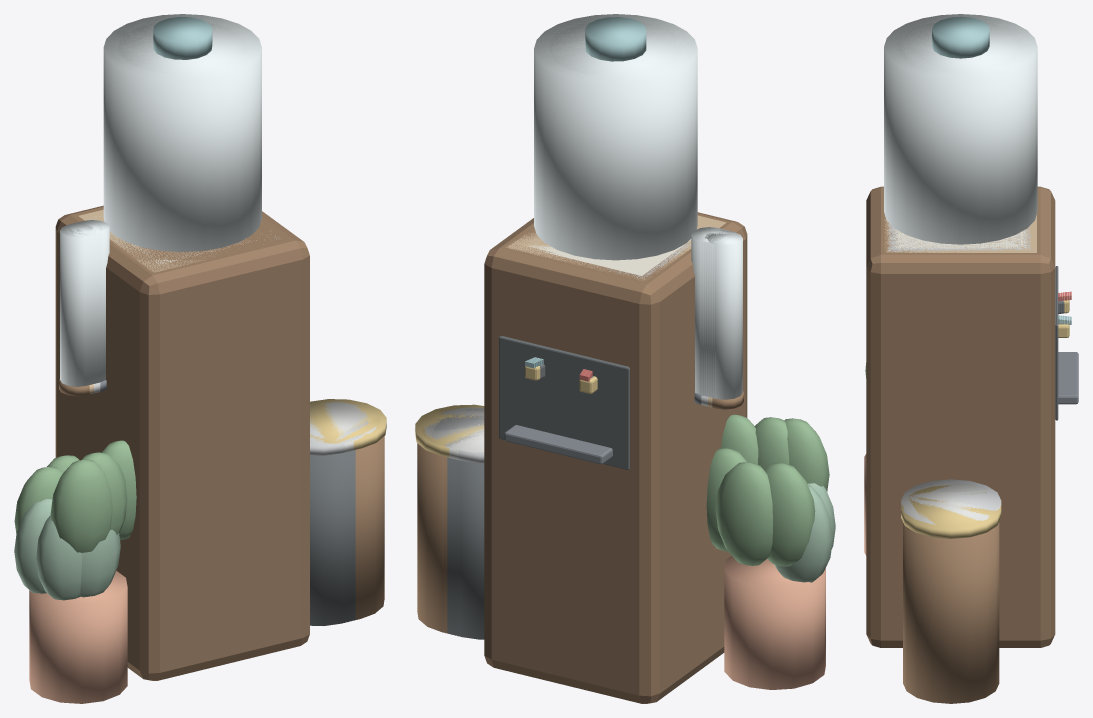
The model's file is Gear11.fbx.
3 views of the same model, side by side, from view 1: azimuth 30°, elevation 25°; view 2: azimuth 150°, elevation 25°; view 3: azimuth 270°, elevation 25° (orthographic). The views are drawn at different scales.
Visible parts, largest first — view 1: Gear11_V10_Walnut, Gear11_V10_Acrylic, Gear11_V10_Terracotta, Gear11_V10_Leaf, Gear11_V10_Sage, Gear11_V4_Charcoal, Gear11_V9_Walnut, Gear11_V1_Acrylic, Gear11_V1_Blue, Gear11_V8_Acrylic, Gear11_V4_Acrylic, Gear11_V3_Acrylic (+14 smaller); view 2: Gear11_V10_Walnut, Gear11_V10_Acrylic, Gear11_V10_Leaf, Gear11_V10_Terracotta, Gear11_V10_Charcoal, Gear11_V4_Charcoal, Gear11_V1_Acrylic, Gear11_V10_Sage, Gear11_V3_Acrylic, Gear11_V1_Blue, Gear11_V8_Acrylic, Gear11_V10_Graphite (+19 smaller); view 3: Gear11_V10_Walnut, Gear11_V10_Acrylic, Gear11_V1_Acrylic, Gear11_V1_Blue, Gear11_V4_BrushedSteel, Gear11_V2_Acrylic, Gear11_V10_Brass, Gear11_V8_Brass, Gear11_V5_Chrome, Gear11_V10_Graphite, Gear11_V5_Acrylic, Gear11_V7_Oak (+13 smaller).
Part boxes in pixels (box(x1,y1,x2,y2)): Gear11_V10_Walnut: box(55, 205, 384, 680); Gear11_V10_Acrylic: box(60, 14, 261, 386); Gear11_V10_Terracotta: box(29, 571, 127, 703); Gear11_V10_Leaf: box(14, 440, 136, 552); Gear11_V10_Sage: box(14, 499, 120, 600); Gear11_V4_Charcoal: box(310, 453, 343, 625); Gear11_V9_Walnut: box(79, 218, 358, 619); Gear11_V1_Acrylic: box(118, 22, 247, 74); Gear11_V1_Blue: box(153, 17, 212, 59); Gear11_V8_Acrylic: box(64, 15, 257, 384); Gear11_V4_Acrylic: box(79, 19, 251, 382); Gear11_V3_Acrylic: box(76, 21, 250, 382); Gear11_V10_Walnut: box(417, 212, 747, 703); Gear11_V10_Acrylic: box(534, 14, 742, 399); Gear11_V10_Leaf: box(706, 414, 829, 566); Gear11_V10_Terracotta: box(724, 555, 825, 689); Gear11_V10_Charcoal: box(499, 336, 629, 470); Gear11_V4_Charcoal: box(459, 460, 484, 639); Gear11_V1_Acrylic: box(549, 23, 681, 76); Gear11_V10_Sage: box(774, 483, 835, 582); Gear11_V3_Acrylic: box(546, 20, 726, 394); Gear11_V1_Blue: box(585, 17, 646, 61); Gear11_V8_Acrylic: box(538, 15, 736, 397); Gear11_V10_Graphite: box(504, 425, 612, 464); Gear11_V10_Walnut: box(866, 186, 1055, 703); Gear11_V10_Acrylic: box(884, 14, 1037, 244); Gear11_V1_Acrylic: box(898, 22, 1023, 72); Gear11_V1_Blue: box(932, 17, 989, 58); Gear11_V4_BrushedSteel: box(892, 227, 1029, 519); Gear11_V2_Acrylic: box(897, 21, 1024, 73); Gear11_V10_Brass: box(901, 296, 1069, 538); Gear11_V8_Brass: box(901, 485, 1001, 527); Gear11_V5_Chrome: box(901, 480, 1001, 518); Gear11_V10_Graphite: box(1058, 352, 1078, 404); Gear11_V5_Acrylic: box(892, 18, 1029, 75); Gear11_V7_Oak: box(886, 221, 1034, 252).
Size of the model in its own units: 87.78 by 134 by 44.44.
